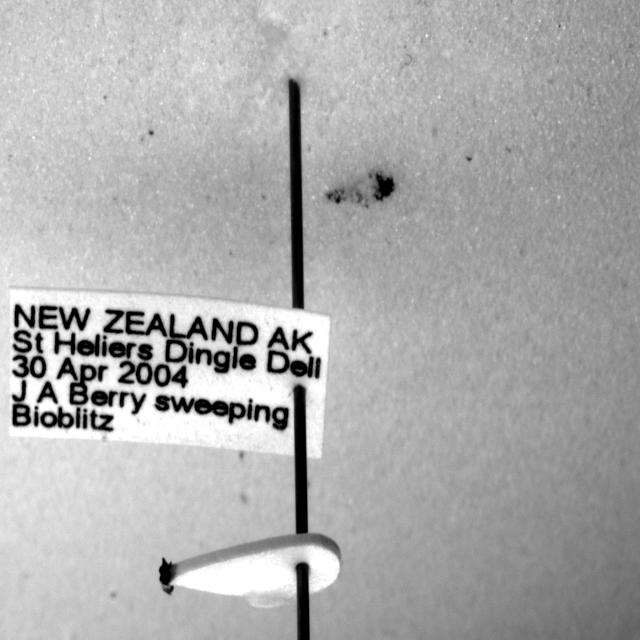typed_label: (10, 289, 330, 458)
